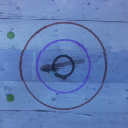Axe Tip: (47, 68, 58, 70)
